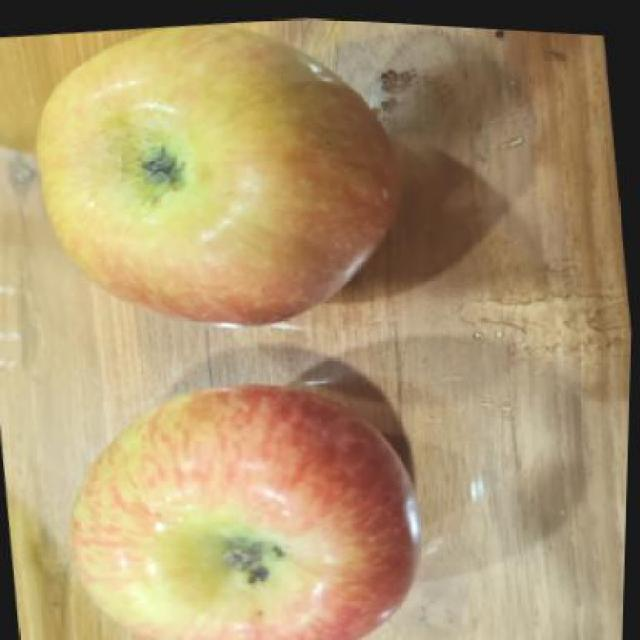Fresh Apple: (31, 39, 415, 328), (72, 383, 420, 632)
